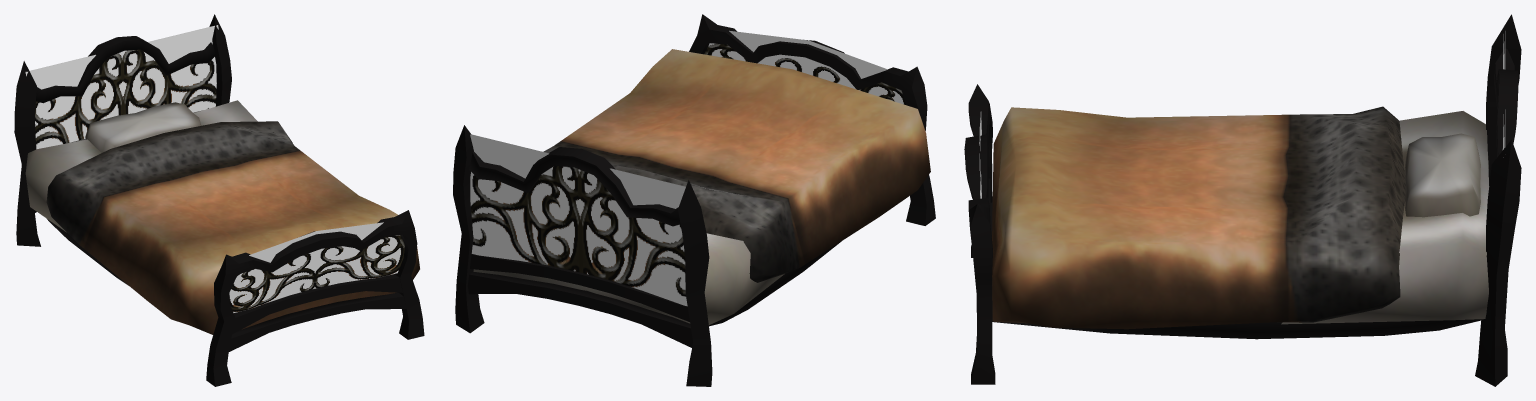
The model's file is AntiqueBed_HD.fbx.
3 renders of one model, left to right at view 1: azimuth 30°, elevation 25°; view 2: azimuth 150°, elevation 25°; view 3: azimuth 270°, elevation 25°, orthographic. The views are drawn at different scales.
Visible parts, largest first — view 1: AntiqueBed; view 2: AntiqueBed; view 3: AntiqueBed.
Boxes of the visible parts, bbox=[...] form: AntiqueBed: bbox=[14, 14, 424, 386]; AntiqueBed: bbox=[453, 14, 935, 386]; AntiqueBed: bbox=[964, 14, 1521, 386].
Size of the model in its own units: 1.3 by 0.9184 by 1.94.
